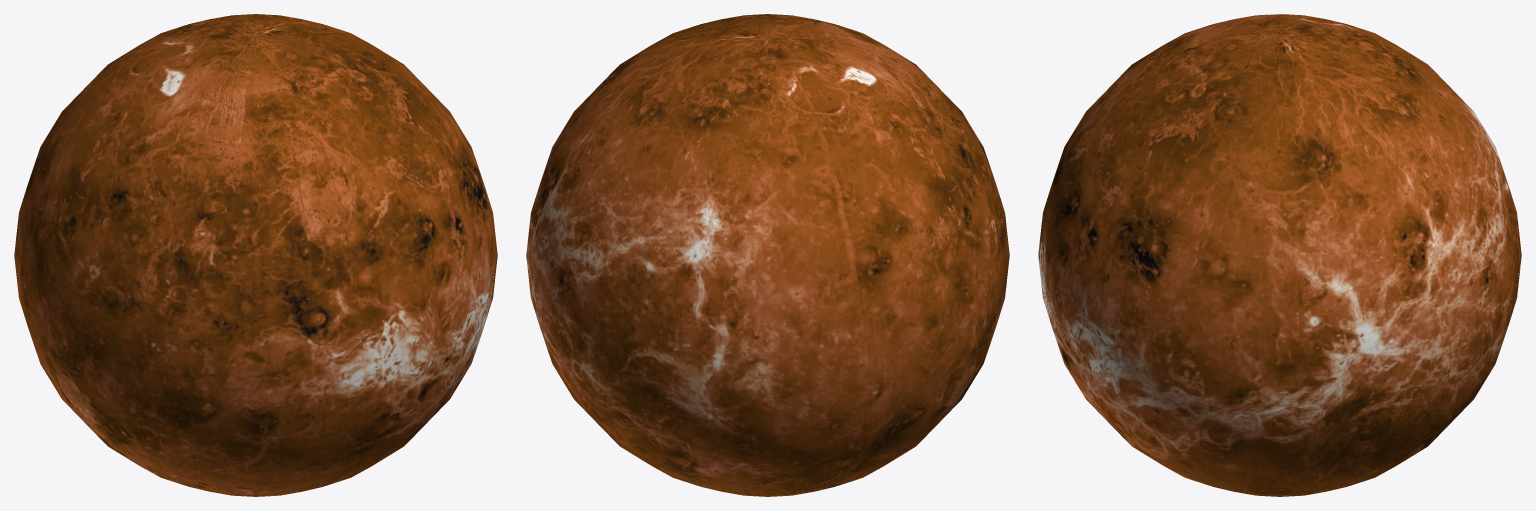
Rendered from marte.dae.
3 renders of one model, left to right at view 1: azimuth 30°, elevation 25°; view 2: azimuth 150°, elevation 25°; view 3: azimuth 270°, elevation 25°, orthographic.
Parts seen in each view (by area): view 1: Model; view 2: Model; view 3: Model.
Boxes of the visible parts, x1=… form: Model: x1=14, y1=14, x2=497, y2=496; Model: x1=526, y1=14, x2=1009, y2=496; Model: x1=1038, y1=14, x2=1521, y2=496.
Bounding box in the file's own units: 105 × 105 × 105.
Materials: 1 (1 with a texture image).
